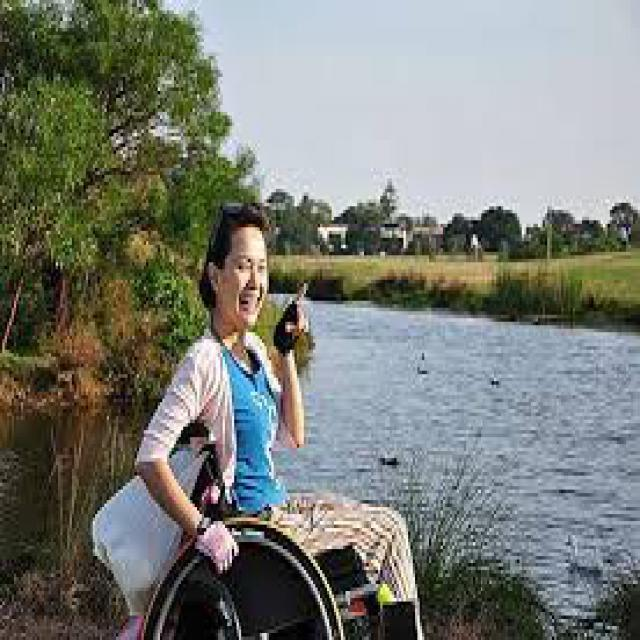wheelchairs: (121, 409, 452, 637)
